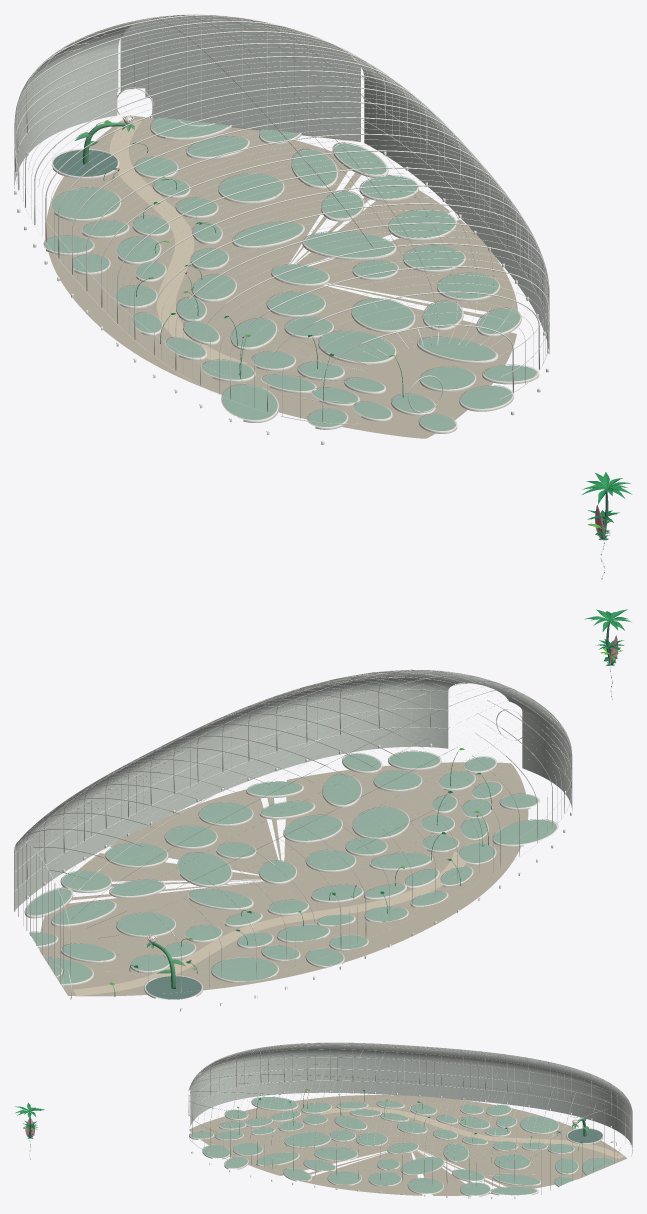
File: greenhouse.glb
3 views of the same model, one above another, from view 1: azimuth 30°, elevation 25°; view 2: azimuth 150°, elevation 25°; view 3: azimuth 270°, elevation 25° (orthographic). The views are drawn at different scales.
Parts seen in each view (by area): view 1: greenhouse.floor, greenhouse.soil.001, greenhouse.end_glass, greenhouse.shell, greenhouse.curb.001, greenhouse.iron.004, greenhouse.iron.001, greenhouse.iron.002, greenhouse.path, greenhouse.iron.005, greenhouse.iron.006, greenhouse.soil.002 (+5 smaller); view 2: greenhouse.floor, greenhouse.shell, greenhouse.soil.001, greenhouse.curb.001, greenhouse.iron.001, greenhouse.iron.002, greenhouse.path, greenhouse.iron.004, greenhouse.soil.002, greenhouse.iron.005, greenhouse.water, greenhouse.curb.002 (+1 smaller); view 3: greenhouse.shell, greenhouse.floor, greenhouse.soil.001, greenhouse.curb.001, greenhouse.iron.001, greenhouse.iron.002, greenhouse.iron.004, greenhouse.path, greenhouse.iron.005, greenhouse.iron.006, greenhouse.iron.007, greenhouse.soil.002 (+3 smaller).
Part boxes in pixels (left/top/right/bottom): greenhouse.floor: left=46, top=115, right=517, bottom=438; greenhouse.soil.001: left=44, top=131, right=537, bottom=430; greenhouse.end_glass: left=121, top=15, right=360, bottom=139; greenhouse.shell: left=14, top=15, right=549, bottom=354; greenhouse.curb.001: left=43, top=148, right=539, bottom=433; greenhouse.iron.004: left=24, top=14, right=440, bottom=384; greenhouse.iron.001: left=271, top=139, right=549, bottom=415; greenhouse.iron.002: left=149, top=17, right=485, bottom=234; greenhouse.path: left=109, top=119, right=247, bottom=364; greenhouse.iron.005: left=71, top=226, right=254, bottom=422; greenhouse.iron.006: left=14, top=48, right=81, bottom=230; greenhouse.soil.002: left=152, top=117, right=278, bottom=152; greenhouse.floor: left=39, top=762, right=528, bottom=996; greenhouse.shell: left=14, top=670, right=572, bottom=910; greenhouse.soil.001: left=27, top=751, right=556, bottom=981; greenhouse.curb.001: left=50, top=750, right=558, bottom=981; greenhouse.iron.001: left=144, top=669, right=500, bottom=824; greenhouse.iron.002: left=14, top=734, right=272, bottom=959; greenhouse.path: left=73, top=852, right=466, bottom=996; greenhouse.iron.004: left=39, top=677, right=547, bottom=931; greenhouse.soil.002: left=33, top=939, right=110, bottom=983; greenhouse.iron.005: left=411, top=743, right=568, bottom=935; greenhouse.water: left=145, top=976, right=201, bottom=999; greenhouse.curb.002: left=24, top=890, right=142, bottom=985; greenhouse.shell: left=188, top=1042, right=632, bottom=1147; greenhouse.floor: left=189, top=1095, right=626, bottom=1195; greenhouse.soil.001: left=190, top=1097, right=573, bottom=1195; greenhouse.curb.001: left=189, top=1096, right=572, bottom=1196; greenhouse.iron.001: left=188, top=1058, right=386, bottom=1193; greenhouse.iron.002: left=386, top=1073, right=582, bottom=1198; greenhouse.iron.004: left=188, top=1042, right=630, bottom=1119; greenhouse.path: left=320, top=1107, right=624, bottom=1158; greenhouse.iron.005: left=250, top=1043, right=442, bottom=1098; greenhouse.iron.006: left=513, top=1056, right=624, bottom=1127; greenhouse.iron.007: left=443, top=1048, right=514, bottom=1104; greenhouse.soil.002: left=567, top=1158, right=615, bottom=1182.
Bounding box in the file's own units: 78 × 33.79 × 191.
